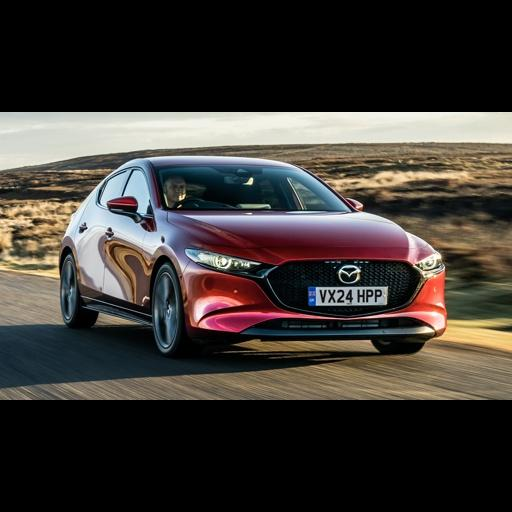hatchback: (60, 156, 445, 355)
